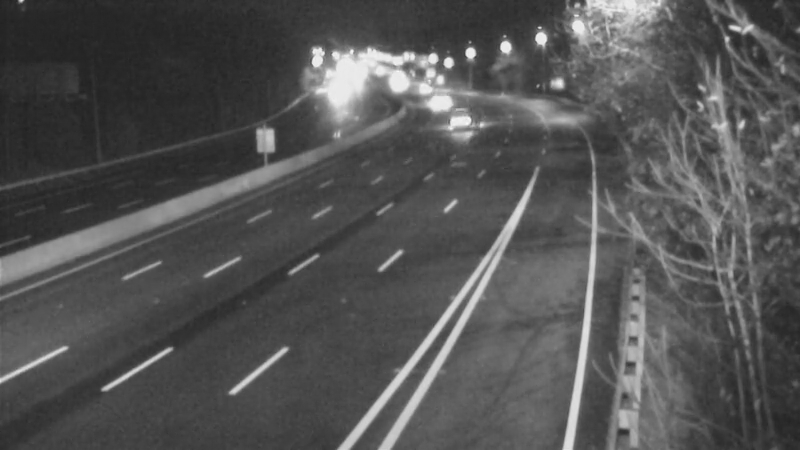vehicle: (397, 63, 447, 113), (410, 78, 460, 128), (439, 92, 489, 142)
